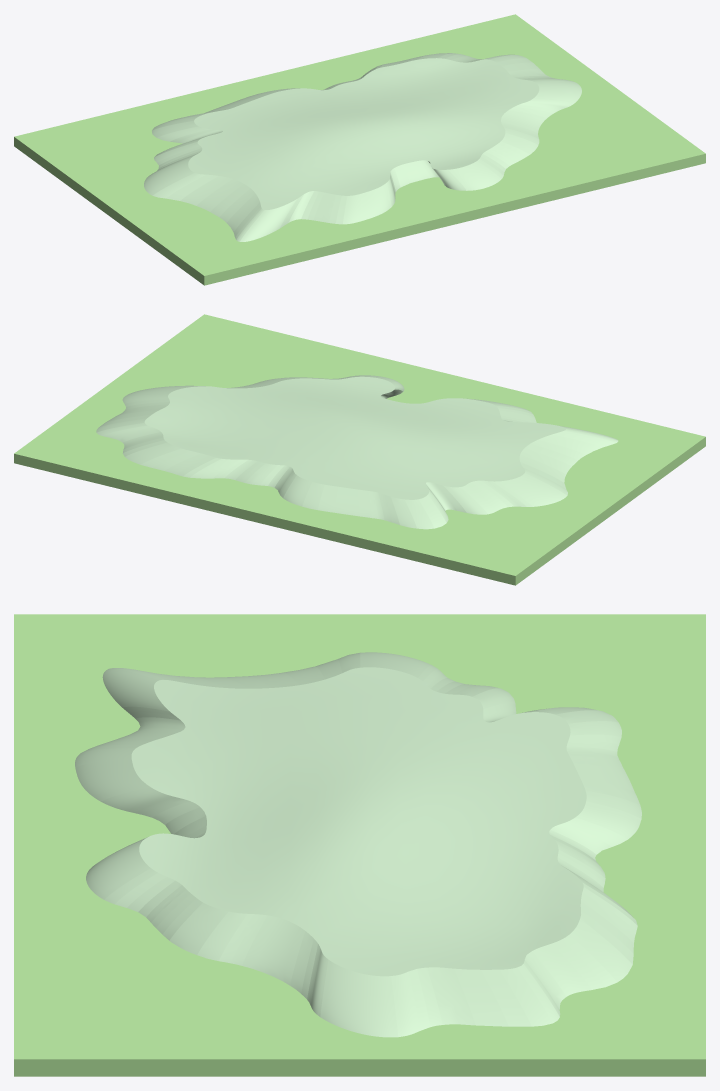
File: flatGround.glb
The picture shows the model from 3 angles, top to bottom: view 1: azimuth 30°, elevation 25°; view 2: azimuth 150°, elevation 25°; view 3: azimuth 270°, elevation 25°; orthographic projection. The views are drawn at different scales.
Visible parts, largest first — view 1: 物件_2, 物件_1; view 2: 物件_2, 物件_1; view 3: 物件_1, 物件_2.
Boxes of the visible parts, left/top/right/bottom form: 物件_2: left=14, top=14, right=705, bottom=285; 物件_1: left=144, top=53, right=581, bottom=241; 物件_2: left=14, top=314, right=705, bottom=585; 物件_1: left=96, top=375, right=618, bottom=529; 物件_1: left=75, top=652, right=641, bottom=1037; 物件_2: left=14, top=614, right=705, bottom=1076.
Bounding box in the file's own units: 0.0517 × 0.00314 × 0.034.
